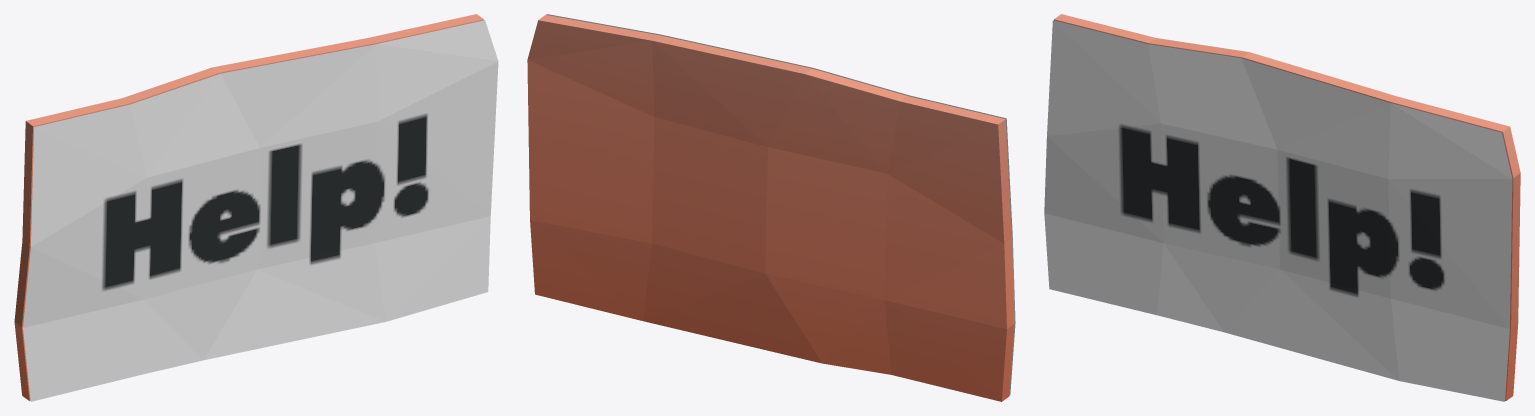
File: Cardboard_01.fbx
3 views of the same model, side by side, from view 1: azimuth 30°, elevation 25°; view 2: azimuth 150°, elevation 25°; view 3: azimuth 330°, elevation 25° (orthographic). The views are drawn at different scales.
Visible parts, largest first — view 1: Cardboard_01; view 2: Cardboard_01; view 3: Cardboard_01.
Part boxes in pixels (left/top/right/bottom): Cardboard_01: left=14, top=14, right=498, bottom=401; Cardboard_01: left=527, top=14, right=1015, bottom=401; Cardboard_01: left=1044, top=14, right=1520, bottom=401.
Bounding box in the file's own units: 42.9 × 2.11 × 24.69.
